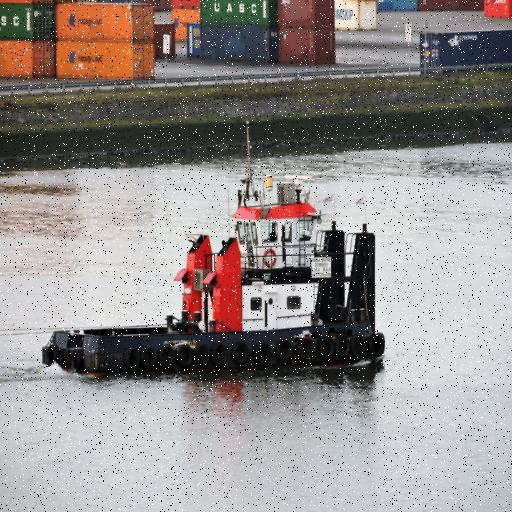tugboat: (39, 172, 389, 392)
